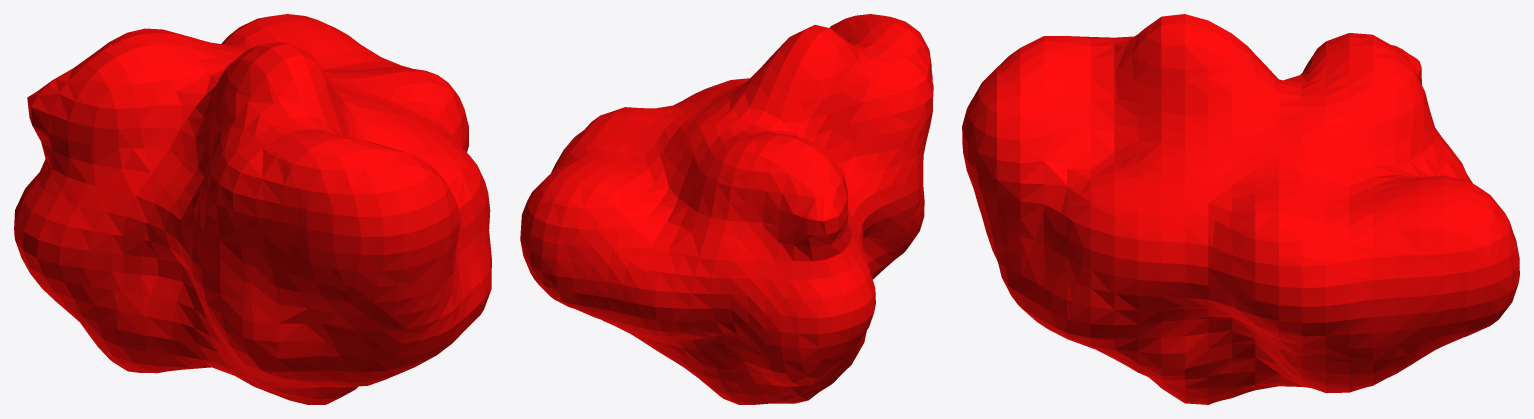
Rendered from yaeR_coarse.dae.
3 renders of one model, left to right at view 1: azimuth 30°, elevation 25°; view 2: azimuth 150°, elevation 25°; view 3: azimuth 270°, elevation 25°, orthographic. The views are drawn at different scales.
Visible parts, largest first — view 1: yaeR; view 2: yaeR; view 3: yaeR.
Part boxes in pixels (bbox=[...]): yaeR: bbox=[14, 14, 491, 404]; yaeR: bbox=[520, 14, 933, 404]; yaeR: bbox=[962, 14, 1519, 404].
Bounding box in the file's own units: 39.96 × 36.15 × 49.79.
